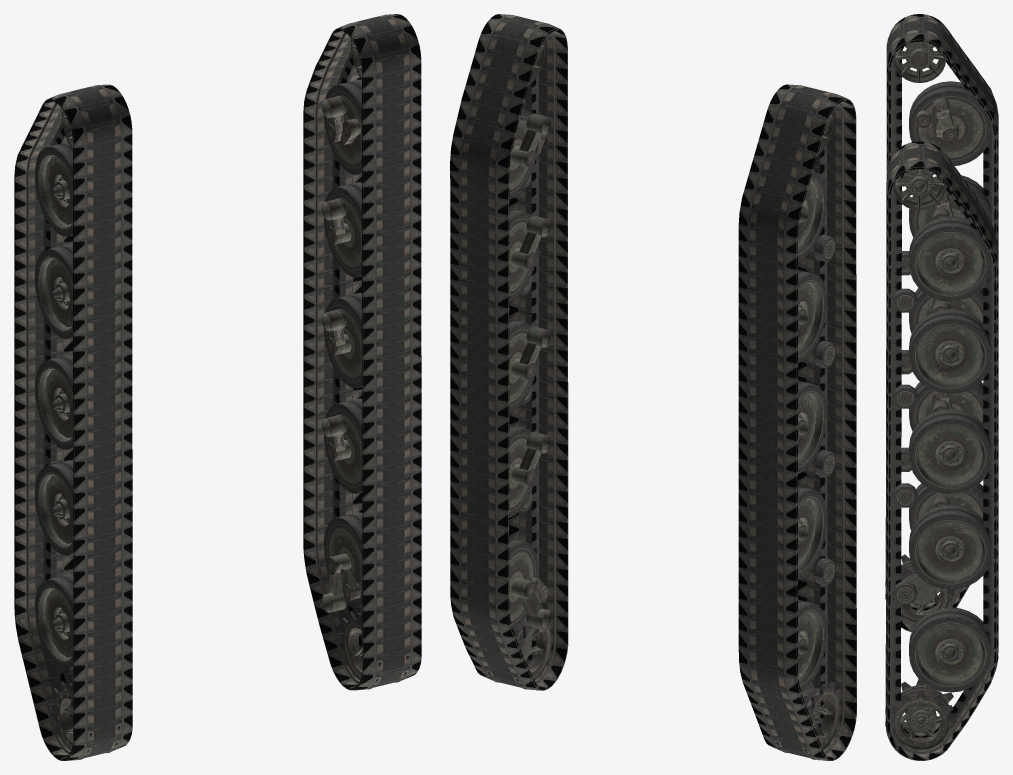
File: Chassis.glb
3 views of the same model, side by side, from view 1: azimuth 30°, elevation 25°; view 2: azimuth 150°, elevation 25°; view 3: azimuth 270°, elevation 25° (orthographic). The views are drawn at different scales.
Parts seen in each view (by area): view 1: set_0_group_0, set_1_group_0, set_3_group_0, set_2_group_0; view 2: set_0_group_0, set_1_group_0, set_3_group_0, set_2_group_0; view 3: set_3_group_0, set_1_group_0, set_2_group_0, set_0_group_0.
Boxes of the visible parts, bbox=[...] form: set_0_group_0: bbox=[14, 84, 132, 760]; set_1_group_0: bbox=[303, 14, 421, 690]; set_3_group_0: bbox=[321, 39, 409, 689]; set_2_group_0: bbox=[35, 110, 120, 759]; set_0_group_0: bbox=[738, 84, 856, 760]; set_1_group_0: bbox=[450, 14, 568, 690]; set_3_group_0: bbox=[488, 39, 551, 689]; set_2_group_0: bbox=[776, 110, 840, 759]; set_3_group_0: bbox=[885, 169, 991, 750]; set_1_group_0: bbox=[885, 141, 998, 760]; set_2_group_0: bbox=[885, 41, 991, 622]; set_0_group_0: bbox=[885, 14, 998, 632].
Size of the model in its own units: 3.35 by 6.1 by 1.05.
4 materials, 4 textured.
